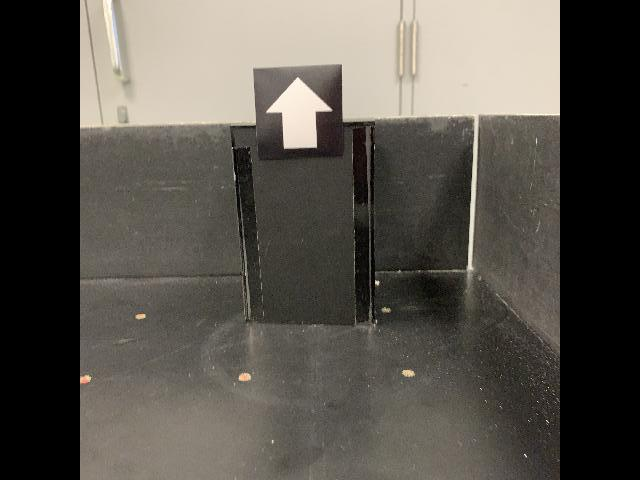up_arrow: (251, 63, 346, 162)
